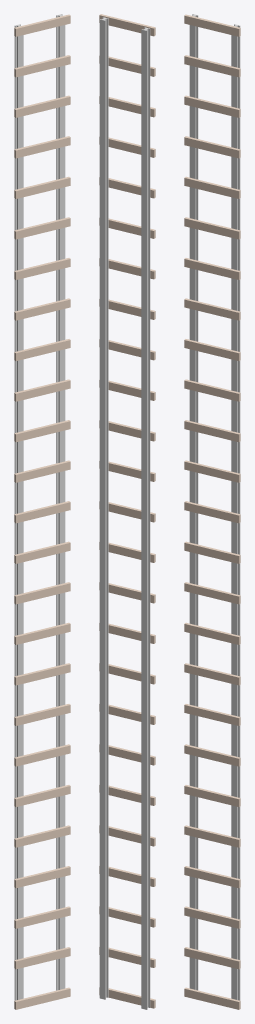
Rendered from duongraynhaga.fbx.
The picture shows the model from 3 angles, left to right: view 1: azimuth 30°, elevation 25°; view 2: azimuth 150°, elevation 25°; view 3: azimuth 330°, elevation 25°; orthographic projection.
Parts seen in each view (by area): view 1: imagetostl_mesh27, imagetostl_mesh30, imagetostl_mesh25, imagetostl_mesh28, imagetostl_mesh29, imagetostl_mesh26, imagetostl_mesh2, imagetostl_mesh15, imagetostl_mesh19, imagetostl_mesh4, imagetostl_mesh8, imagetostl_mesh13 (+19 smaller); view 2: imagetostl_mesh25, imagetostl_mesh28, imagetostl_mesh30, imagetostl_mesh27, imagetostl_mesh26, imagetostl_mesh29, imagetostl_mesh24, imagetostl_mesh0, imagetostl_mesh2, imagetostl_mesh4, imagetostl_mesh6, imagetostl_mesh1 (+19 smaller); view 3: imagetostl_mesh30, imagetostl_mesh27, imagetostl_mesh28, imagetostl_mesh25, imagetostl_mesh26, imagetostl_mesh29, imagetostl_mesh2, imagetostl_mesh8, imagetostl_mesh15, imagetostl_mesh19, imagetostl_mesh21, imagetostl_mesh4 (+19 smaller).
Part boxes in pixels (box(x1,y1,x2,y2)): imagetostl_mesh27: box(17, 35, 23, 999); imagetostl_mesh30: box(59, 25, 65, 989); imagetostl_mesh25: box(14, 24, 20, 1000); imagetostl_mesh28: box(56, 14, 62, 990); imagetostl_mesh29: box(58, 15, 62, 989); imagetostl_mesh26: box(17, 25, 20, 999); imagetostl_mesh2: box(14, 906, 70, 928); imagetostl_mesh15: box(14, 379, 70, 401); imagetostl_mesh19: box(14, 217, 70, 239); imagetostl_mesh4: box(14, 825, 70, 847); imagetostl_mesh8: box(14, 663, 70, 685); imagetostl_mesh13: box(14, 460, 70, 482); imagetostl_mesh25: box(141, 29, 147, 1009); imagetostl_mesh28: box(99, 19, 105, 999); imagetostl_mesh30: box(102, 17, 108, 997); imagetostl_mesh27: box(144, 27, 150, 1007); imagetostl_mesh26: box(144, 28, 148, 1007); imagetostl_mesh29: box(102, 18, 106, 997); imagetostl_mesh24: box(99, 14, 155, 36); imagetostl_mesh0: box(99, 987, 155, 1008); imagetostl_mesh2: box(99, 906, 155, 927); imagetostl_mesh4: box(99, 825, 155, 846); imagetostl_mesh6: box(99, 744, 155, 765); imagetostl_mesh1: box(99, 947, 155, 967); imagetostl_mesh30: box(231, 35, 237, 999); imagetostl_mesh27: box(189, 25, 195, 989); imagetostl_mesh28: box(234, 24, 240, 1000); imagetostl_mesh25: box(192, 14, 198, 990); imagetostl_mesh26: box(192, 15, 196, 989); imagetostl_mesh29: box(234, 25, 237, 999); imagetostl_mesh2: box(184, 906, 240, 928); imagetostl_mesh8: box(184, 663, 240, 685); imagetostl_mesh15: box(184, 379, 240, 401); imagetostl_mesh19: box(184, 217, 240, 239); imagetostl_mesh21: box(184, 136, 240, 158); imagetostl_mesh4: box(184, 825, 240, 847).
Size of the model in its own units: 5800 by 99116 by 887.
